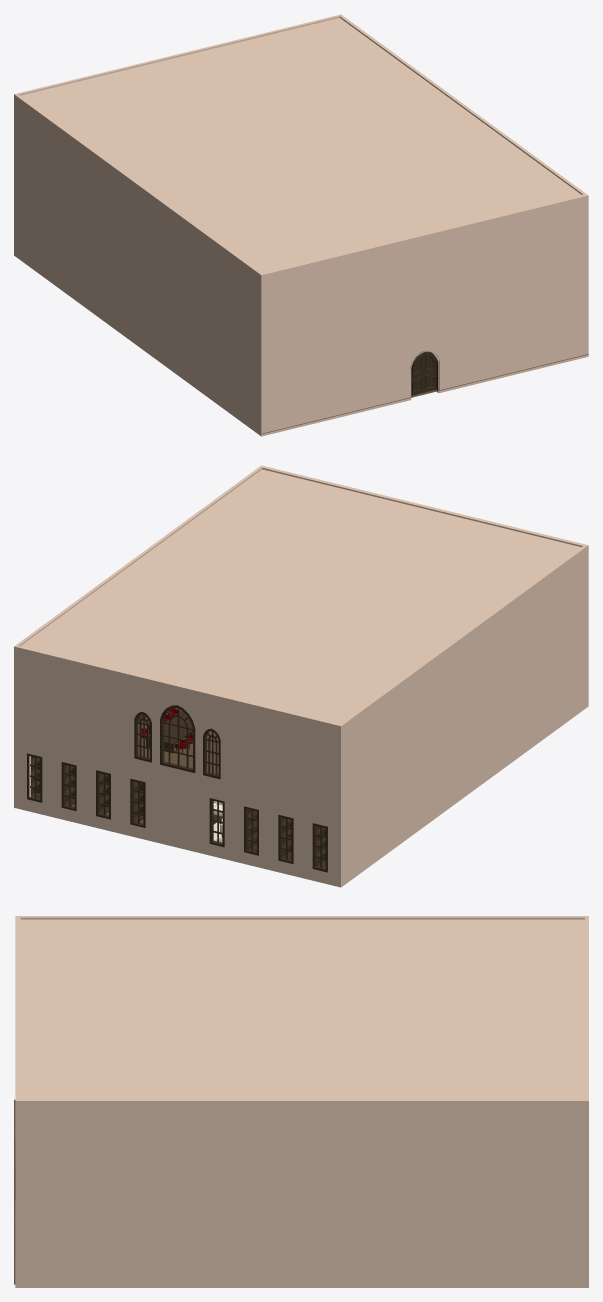
File: library_main.glb
3 views of the same model, one above another, from view 1: azimuth 30°, elevation 25°; view 2: azimuth 150°, elevation 25°; view 3: azimuth 270°, elevation 25° (orthographic). The views are drawn at different scales.
Visible parts, largest first — view 1: ceiling, bookshelves; view 2: ceiling, bookshelves, rug.001; view 3: ceiling.
Part boxes in pixels (x1,y1,x2,y2): ceiling: (14, 14, 588, 436); bookshelves: (410, 350, 439, 396); ceiling: (14, 465, 588, 887); bookshelves: (27, 705, 327, 872); rug.001: (141, 708, 222, 842); ceiling: (14, 916, 588, 1287).
Bounding box in the file's own units: 26.81 × 12.63 × 35.22.
Materials: 4 (4 with a texture image).
